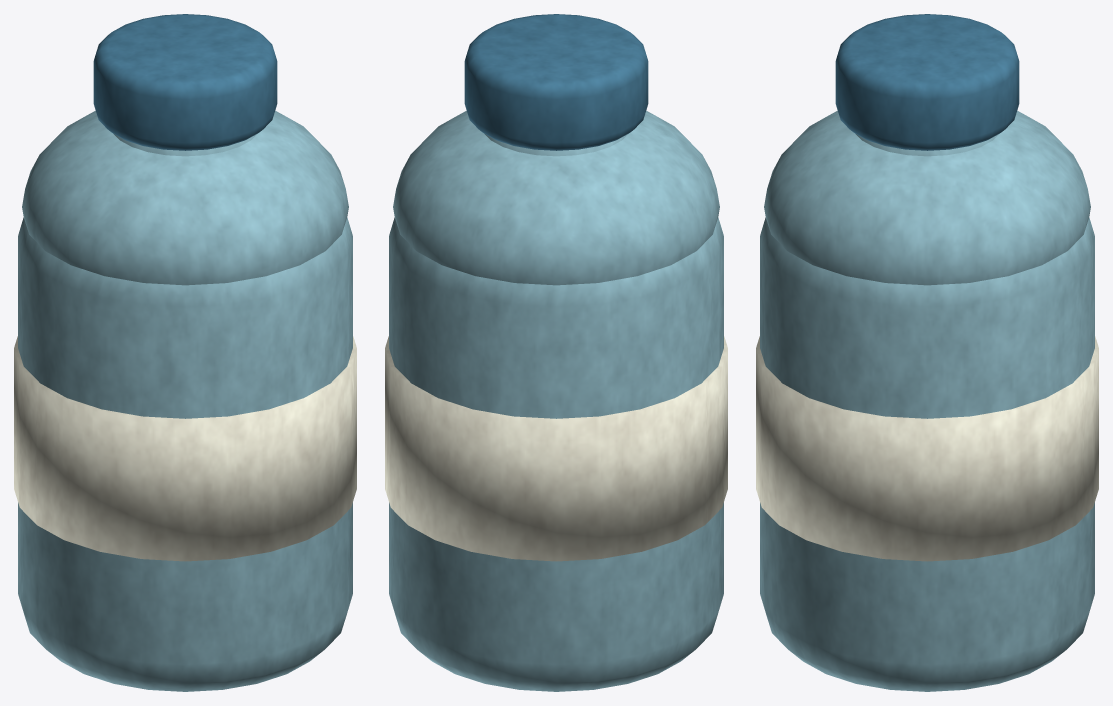
Rendered from water_bottle.glb.
The picture shows the model from 3 angles, left to right: view 1: azimuth 30°, elevation 25°; view 2: azimuth 150°, elevation 25°; view 3: azimuth 270°, elevation 25°; orthographic projection.
Parts seen in each view (by area): view 1: water_bottle_textured_mesh; view 2: water_bottle_textured_mesh; view 3: water_bottle_textured_mesh.
Part boxes in pixels (x1,y1,x2,y2): water_bottle_textured_mesh: [14, 14, 356, 691]; water_bottle_textured_mesh: [385, 14, 727, 691]; water_bottle_textured_mesh: [756, 14, 1098, 691].
Size of the model in its own units: 0.86 by 1.63 by 0.86.
Materials: 1 (1 with a texture image).
